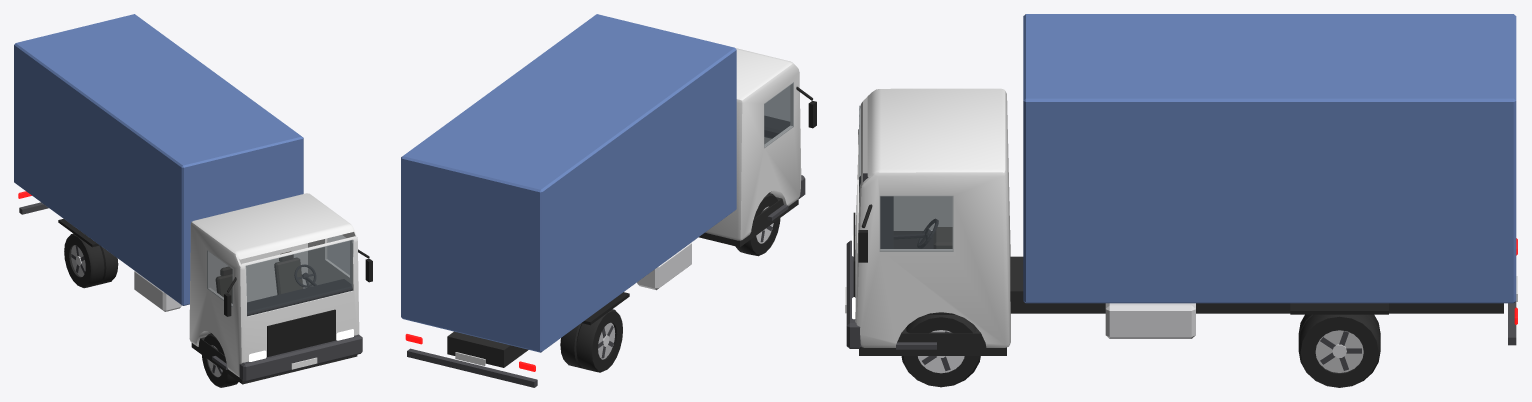
Rendered from truck.glb.
3 views of the same model, side by side, from view 1: azimuth 30°, elevation 25°; view 2: azimuth 150°, elevation 25°; view 3: azimuth 270°, elevation 25° (orthographic). The views are drawn at different scales.
Parts seen in each view (by area): view 1: truck_body, glass, wheel_RR, wheel_FR; view 2: truck_body, wheel_RR, glass, wheel_FR; view 3: truck_body, wheel_RL, glass, wheel_FL.
Part boxes in pixels (left/top/right/bottom): truck_body: left=14, top=14, right=372, bottom=384; glass: left=207, top=235, right=353, bottom=315; wheel_RR: left=64, top=233, right=118, bottom=288; wheel_FR: left=202, top=333, right=238, bottom=387; truck_body: left=401, top=14, right=816, bottom=387; wheel_RR: left=560, top=309, right=622, bottom=372; glass: left=764, top=82, right=793, bottom=147; wheel_FR: left=735, top=193, right=780, bottom=256; truck_body: left=845, top=14, right=1517, bottom=355; wheel_RL: left=1298, top=314, right=1380, bottom=387; glass: left=859, top=105, right=953, bottom=251; wheel_FL: left=901, top=315, right=980, bottom=387.
Size of the model in its own units: 2.98 by 3.92 by 8.19.
